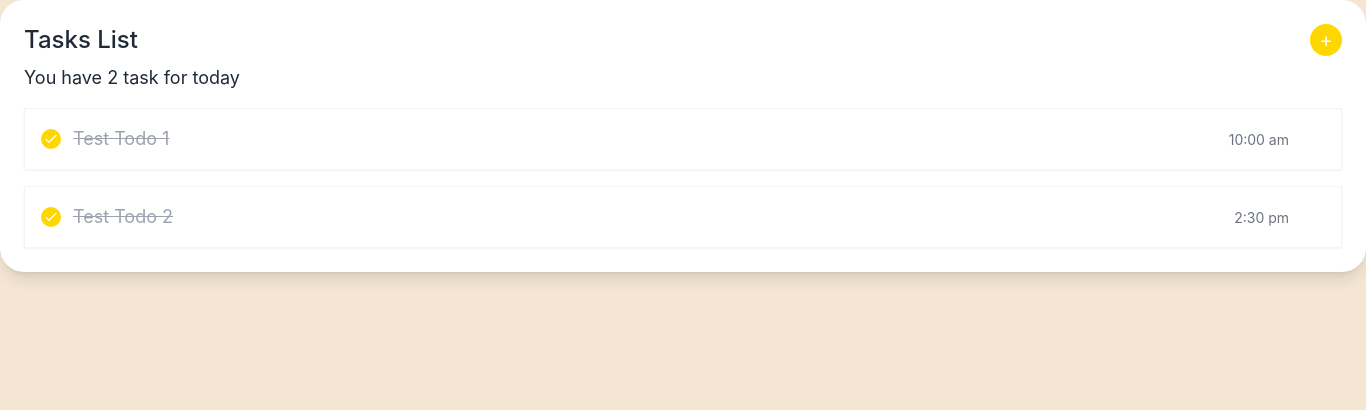
Scenario: TodoList › expands accordion when clicked
The width and height of the screenshot is (1366, 410).
// Click to expand
Click the element with test id "accordion-toggle" showing "Test Todo 1 10:00 am": (683, 139) [25,109,1341,169]
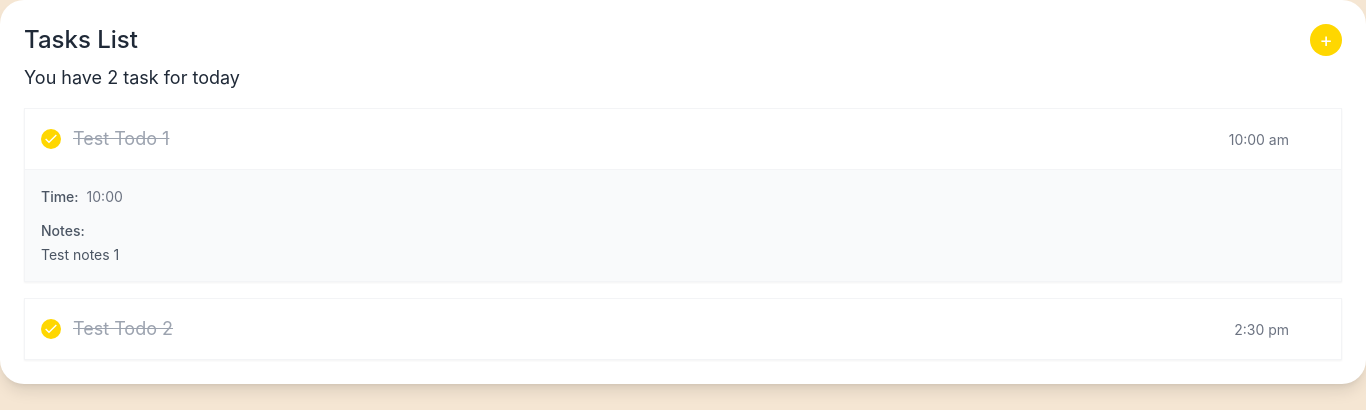
Expected: the element with test id "accordion-content" is shown, [25,169,1341,280]
Expected: the text with test id "todo-notes" reads "Test notes 1", [41,246,119,262]
